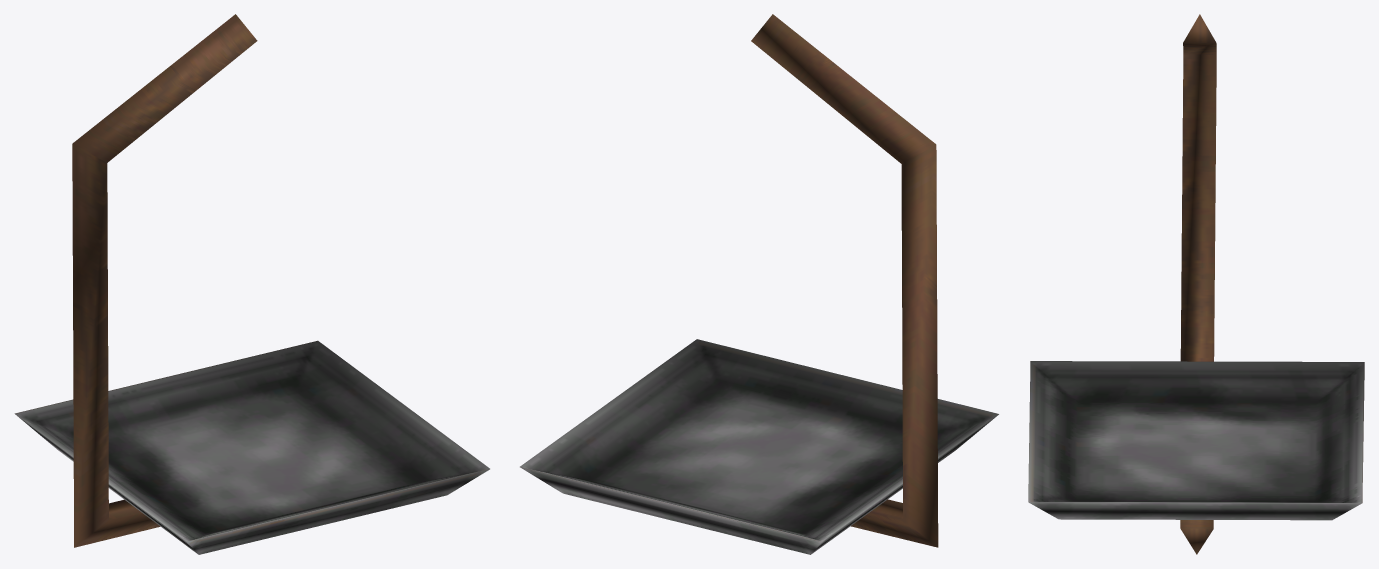
The model's file is INST_SWORDLIGHT_CONV12-NEW.fbx.
3 renders of one model, left to right at view 1: azimuth 30°, elevation 25°; view 2: azimuth 150°, elevation 25°; view 3: azimuth 270°, elevation 25°, orthographic. The views are drawn at different scales.
Parts seen in each view (by area): view 1: INST_SWORDLIGHT_CONV12-NEW; view 2: INST_SWORDLIGHT_CONV12-NEW; view 3: INST_SWORDLIGHT_CONV12-NEW.
Part boxes in pixels (<box>): INST_SWORDLIGHT_CONV12-NEW: <box>14,14,489,554</box>; INST_SWORDLIGHT_CONV12-NEW: <box>520,14,998,554</box>; INST_SWORDLIGHT_CONV12-NEW: <box>1028,14,1364,554</box>.
Size of the model in its own units: 16385 by 23348 by 15104.
1 material, 1 textured.
